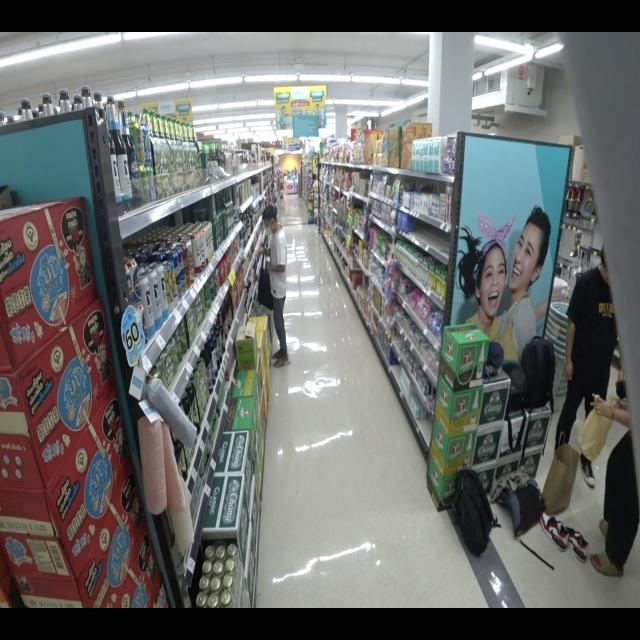shoplifting: (258, 202, 291, 370)
